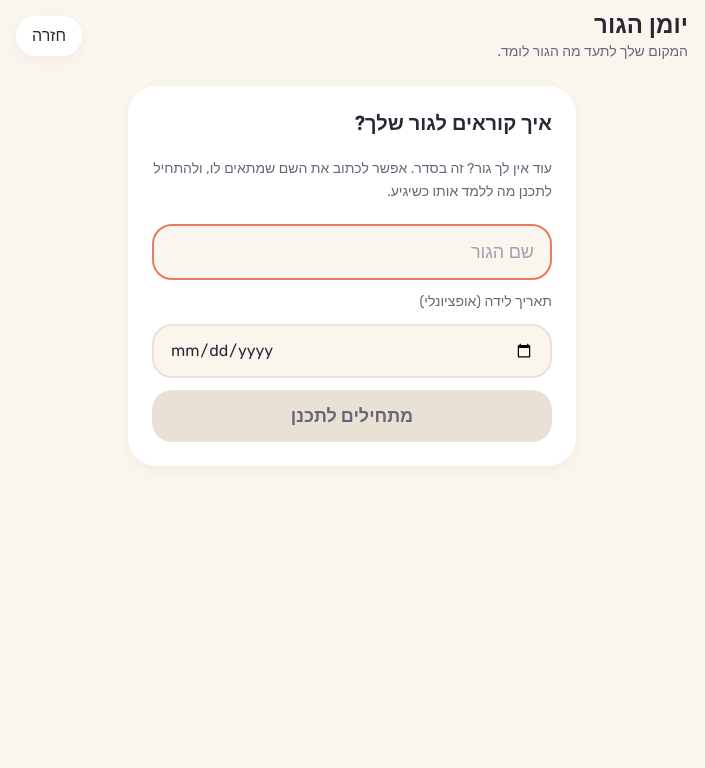
Test case: <PuppyJournalPage> — setup stage › submitting a name creates a journal and opens stage 1 (learning)
Type "באדי" into the field with placeholder "שם הגור".
click(352, 252); type("באדי")  # box left=152, top=224, right=552, bottom=280
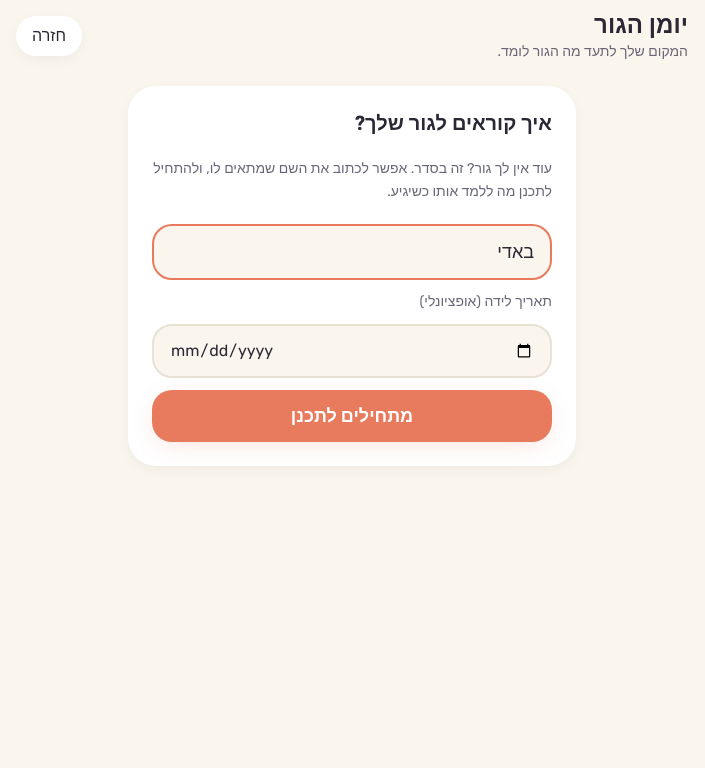
Click the button "מתחילים לתכנן".
click(352, 416)  # box left=152, top=390, right=552, bottom=442
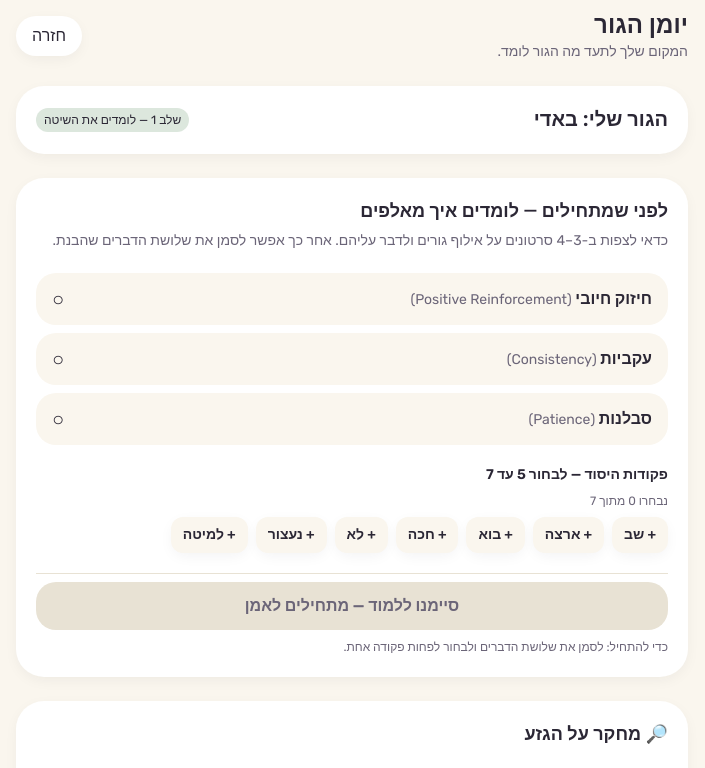
Check: the heading "הגור שלי: באדי" is shown, box left=534, top=106, right=668, bottom=134
Check: the text "שלב 1 — לומדים את השיטה" is shown, box left=36, top=108, right=189, bottom=132
